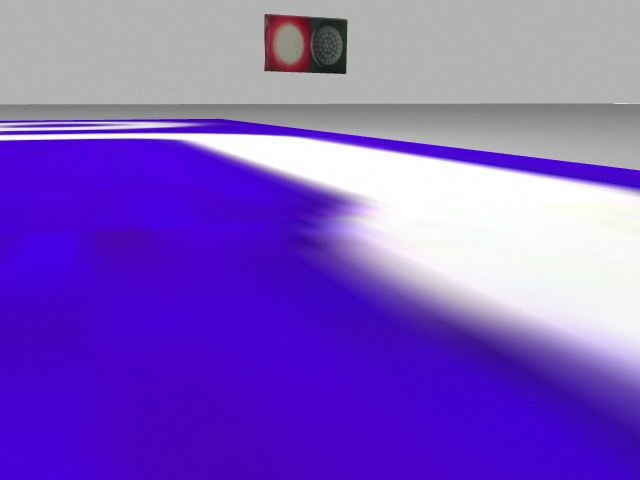red: (264, 14, 309, 71)
